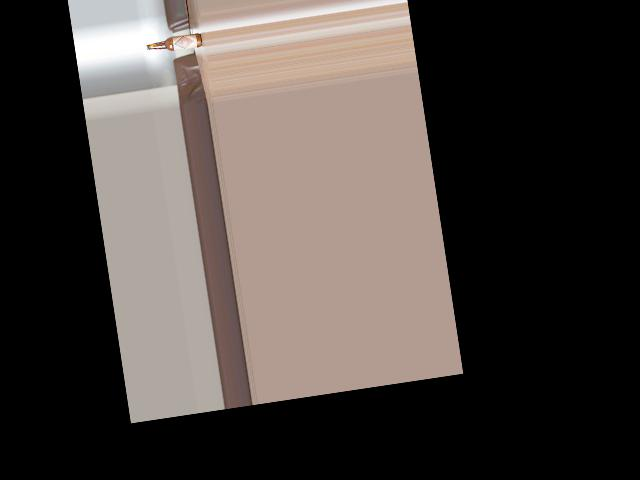beer: (146, 32, 202, 53)
